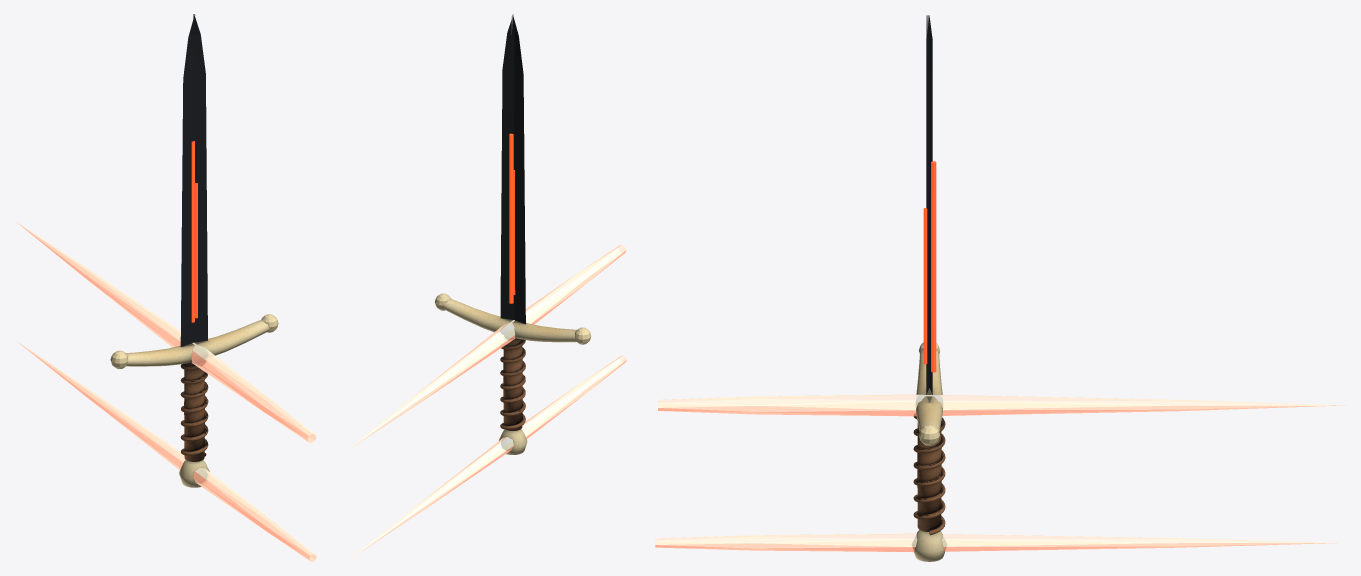
File: arma_espada_curta_excelente.glb
3 views of the same model, side by side, from view 1: azimuth 30°, elevation 25°; view 2: azimuth 150°, elevation 25°; view 3: azimuth 270°, elevation 25° (orthographic). The views are drawn at different scales.
Visible parts, largest first — view 1: arma_espada_curta_excelente, guarda_gema, pomo_gema, lamina_runa2, lamina_runa; view 2: arma_espada_curta_excelente, guarda_gema, pomo_gema, lamina_runa2; view 3: guarda_gema, pomo_gema, arma_espada_curta_excelente, lamina_runa2.
Boxes of the visible parts, <box> form: arma_espada_curta_excelente: <box>110,14,278,487</box>; guarda_gema: <box>15,221,316,442</box>; pomo_gema: <box>17,341,316,561</box>; lamina_runa2: <box>191,141,194,322</box>; lamina_runa: <box>194,183,197,318</box>; arma_espada_curta_excelente: <box>435,14,591,454</box>; guarda_gema: <box>347,245,626,450</box>; pomo_gema: <box>348,355,626,560</box>; lamina_runa2: <box>509,133,513,303</box>; guarda_gema: <box>658,394,1345,416</box>; pomo_gema: <box>655,533,1339,552</box>; arma_espada_curta_excelente: <box>912,15,946,561</box>; lamina_runa2: <box>931,161,936,372</box>.
Size of the model in its own units: 0.3212 by 0.8732 by 1.
Materials: 5 (1 with a texture image).
